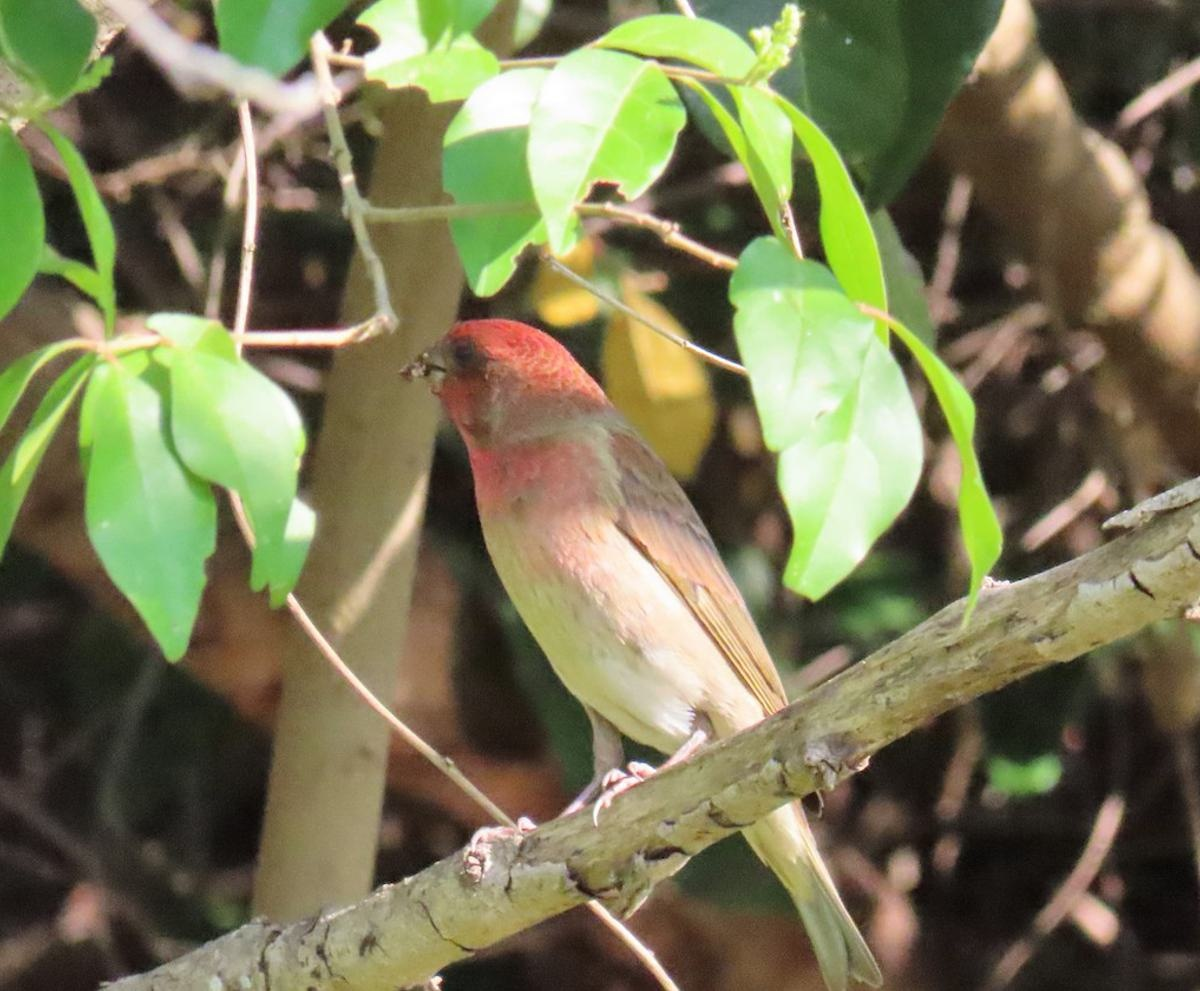rosefinch: (402, 304, 848, 915)
